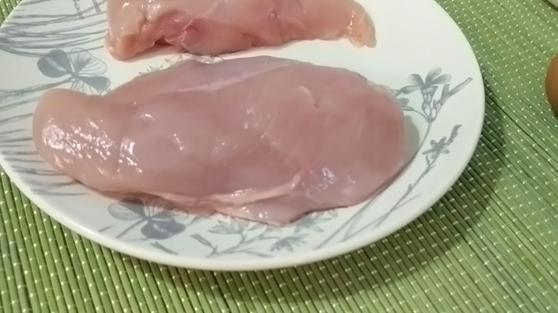chicken_fillet: (42, 59, 426, 219), (100, 1, 387, 59)
